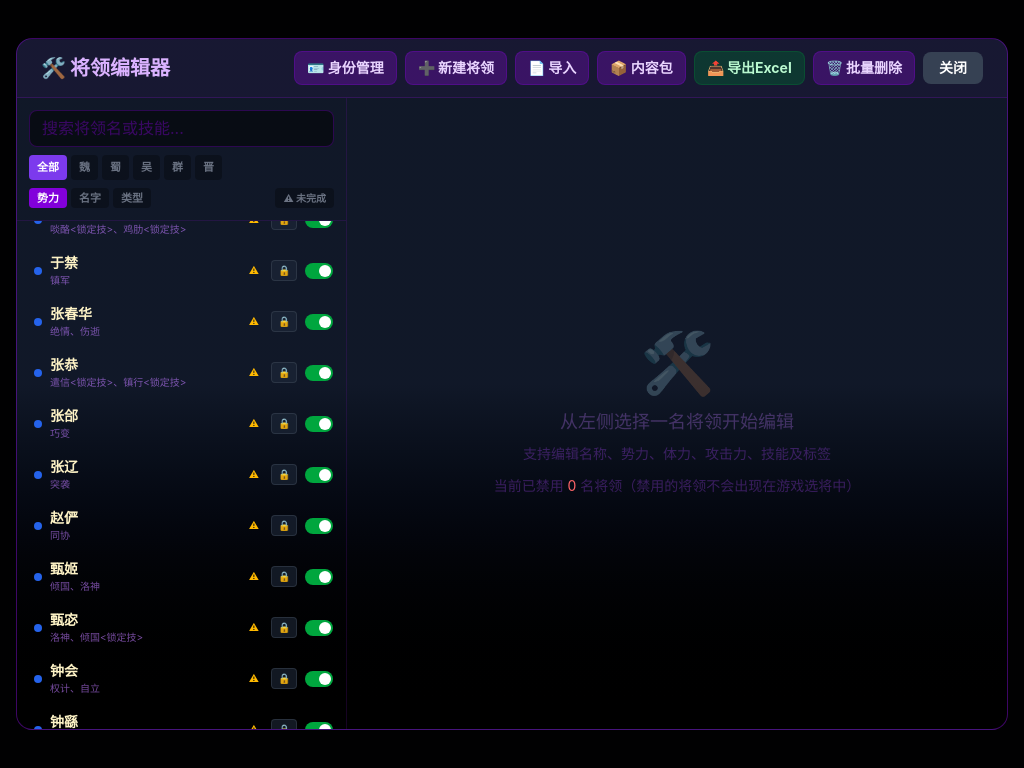
自己写效果：生成 → 确认 → 进积木 › 看不懂的那一段逐段点名，并且一句也不半收
(page scrolled)
Click the button "张辽 突袭 ⚠" at [146, 475], box [26,451,267,498]
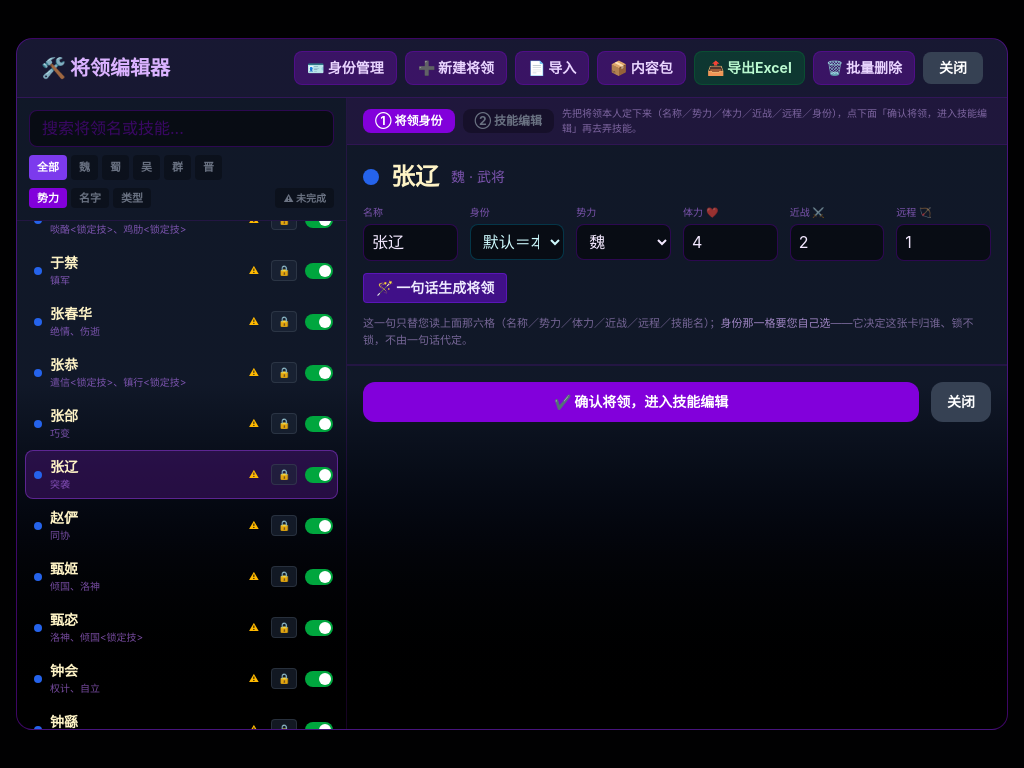
Click the button "② 技能编辑" at [508, 121], box [462,109,554,133]
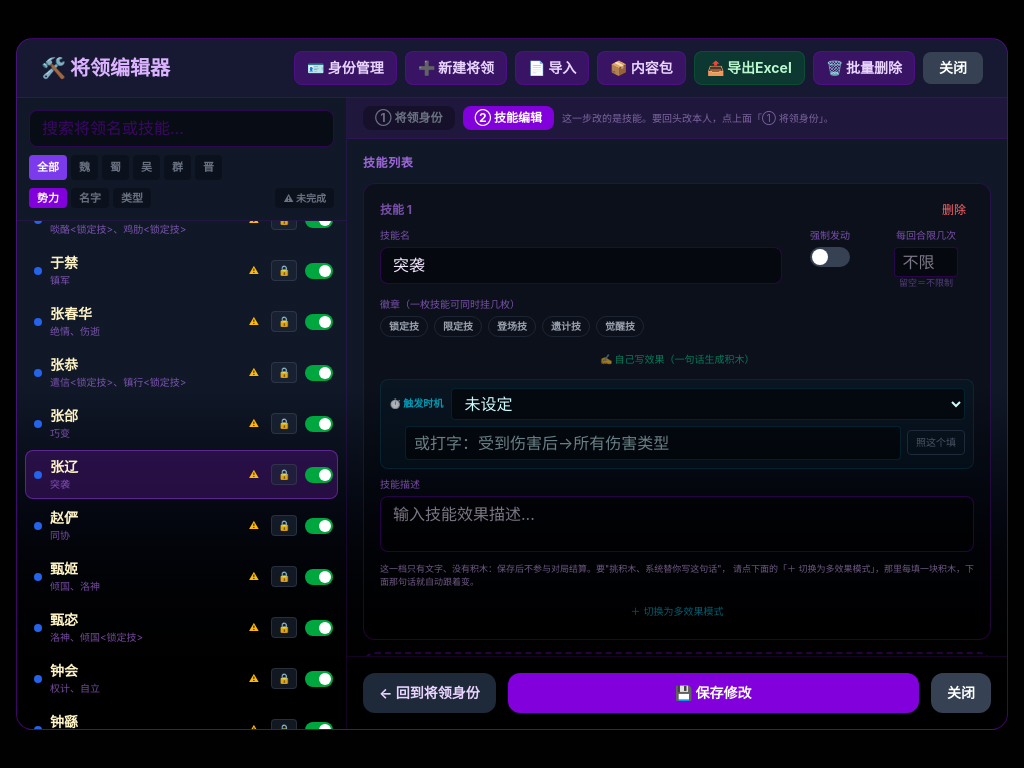
Click the button "✍️ 自己写效果（一句话生成积木）" at [677, 359], box [380,348,974,371]
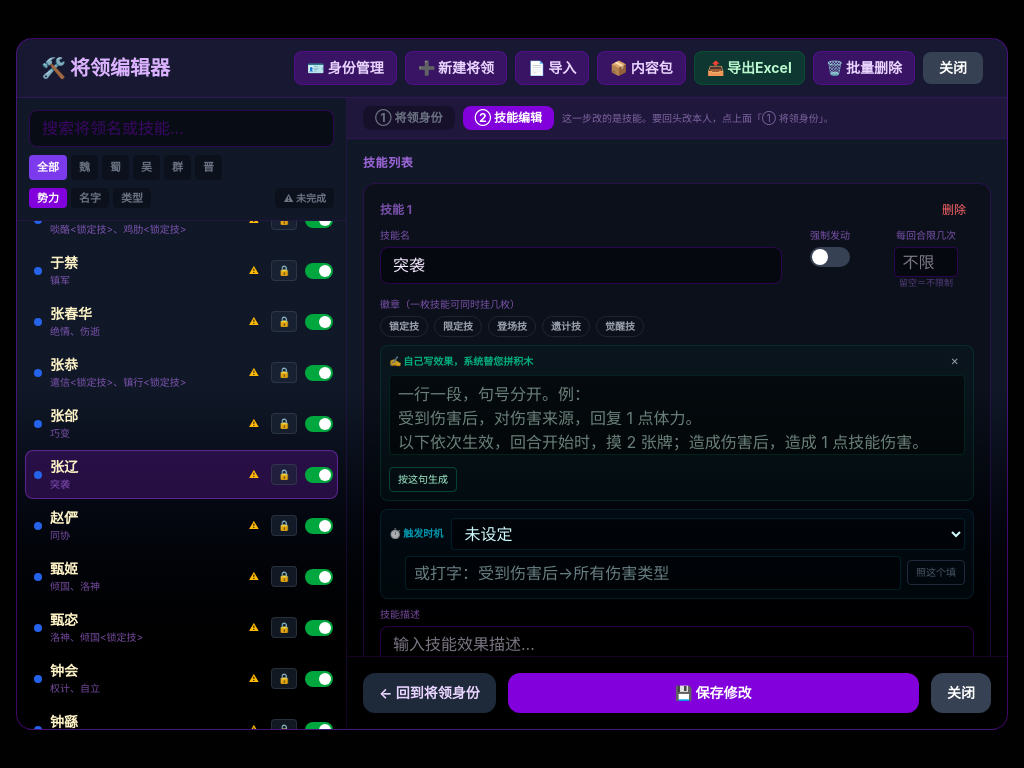
Replace the text in the text box named "自己写效果" with "其他玩家摸两张牌。" at [677, 415], box [389,375,965,455]
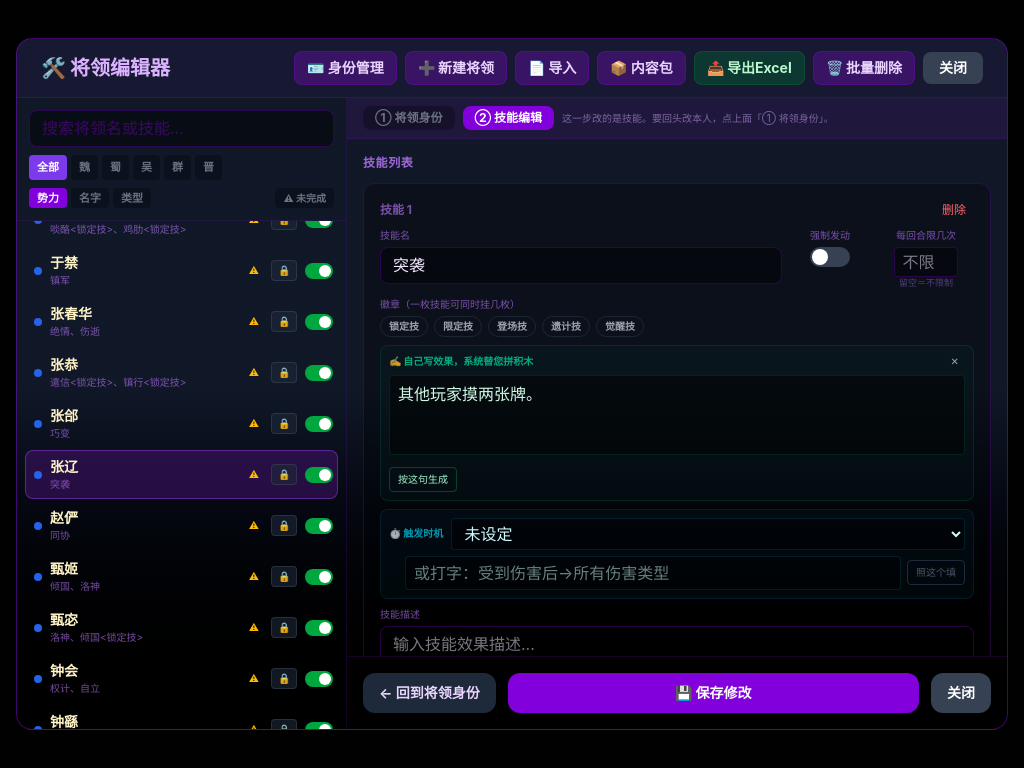
Click the button "按这句生成" at [423, 479], box [389,467,457,492]
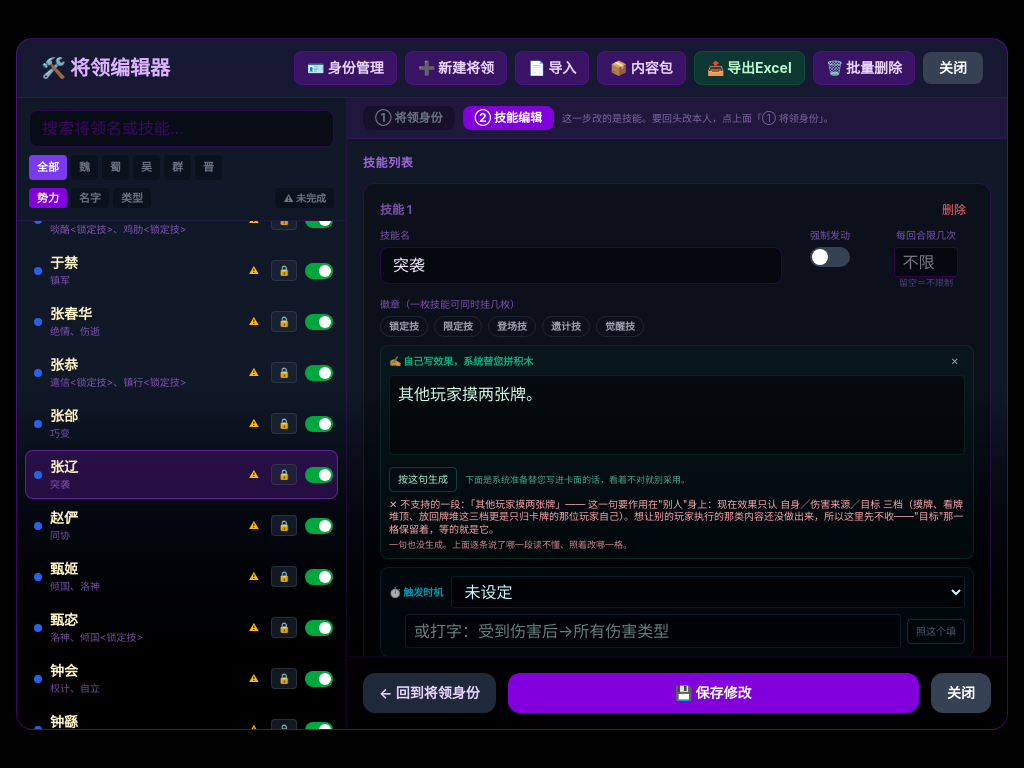
Now the text "不支持的一段" shows "其他玩家摸两张牌", box [475,498,555,510]
Now the text "不支持的一段" shows "还没做", box [389,498,965,535]
Now the text "一句也没生成。上面逐条说了哪一段读不懂、照着改哪一格。" is shown, box [389,539,632,550]
